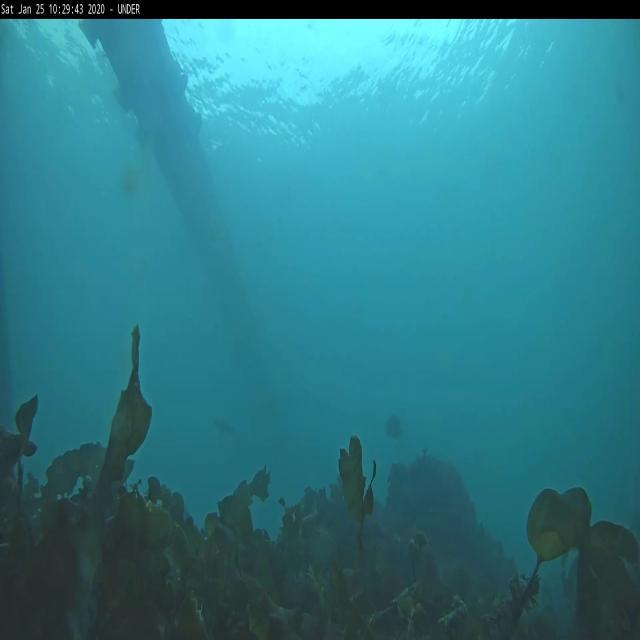fish: (211, 413, 239, 439)
